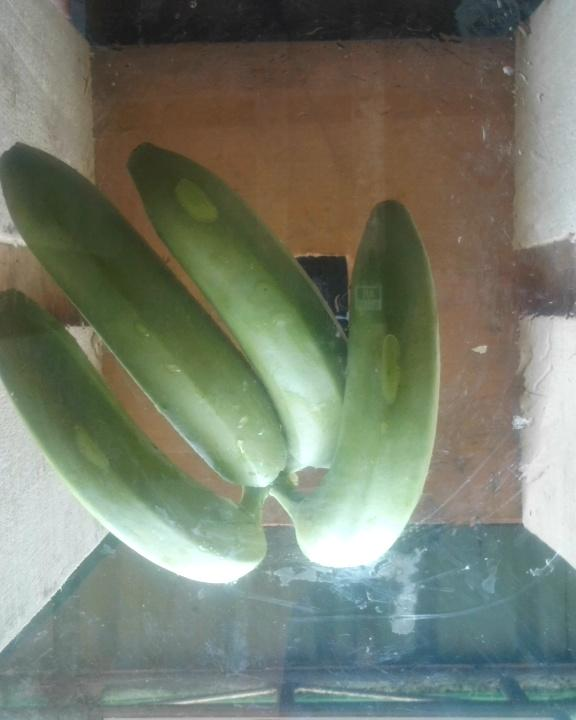SPOT: (1, 117, 461, 597)
